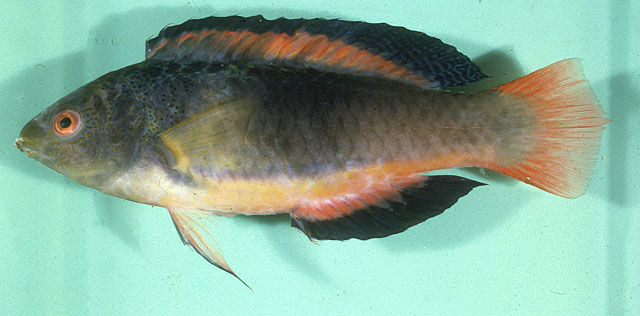fish: (15, 14, 612, 293)
